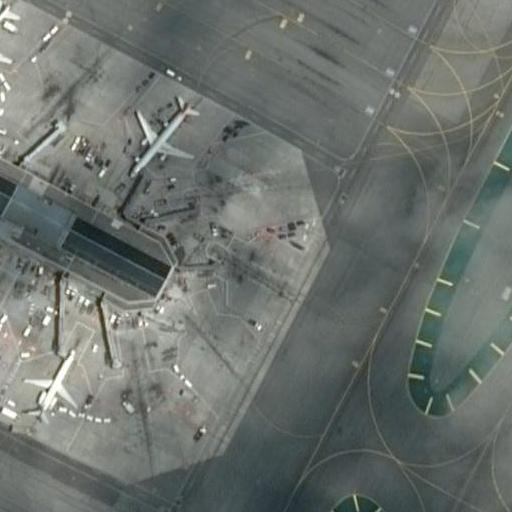Aircraft: (124, 94, 198, 180), (19, 347, 90, 418), (0, 0, 20, 83), (0, 292, 6, 373)
